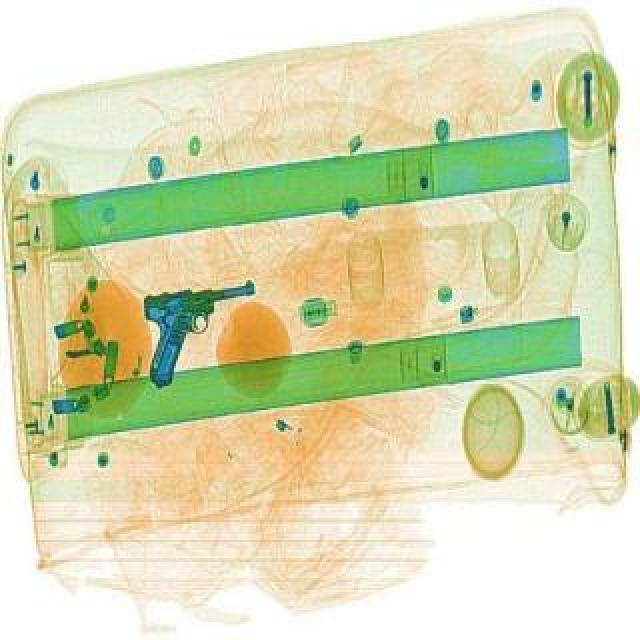gun: (132, 276, 272, 388)
